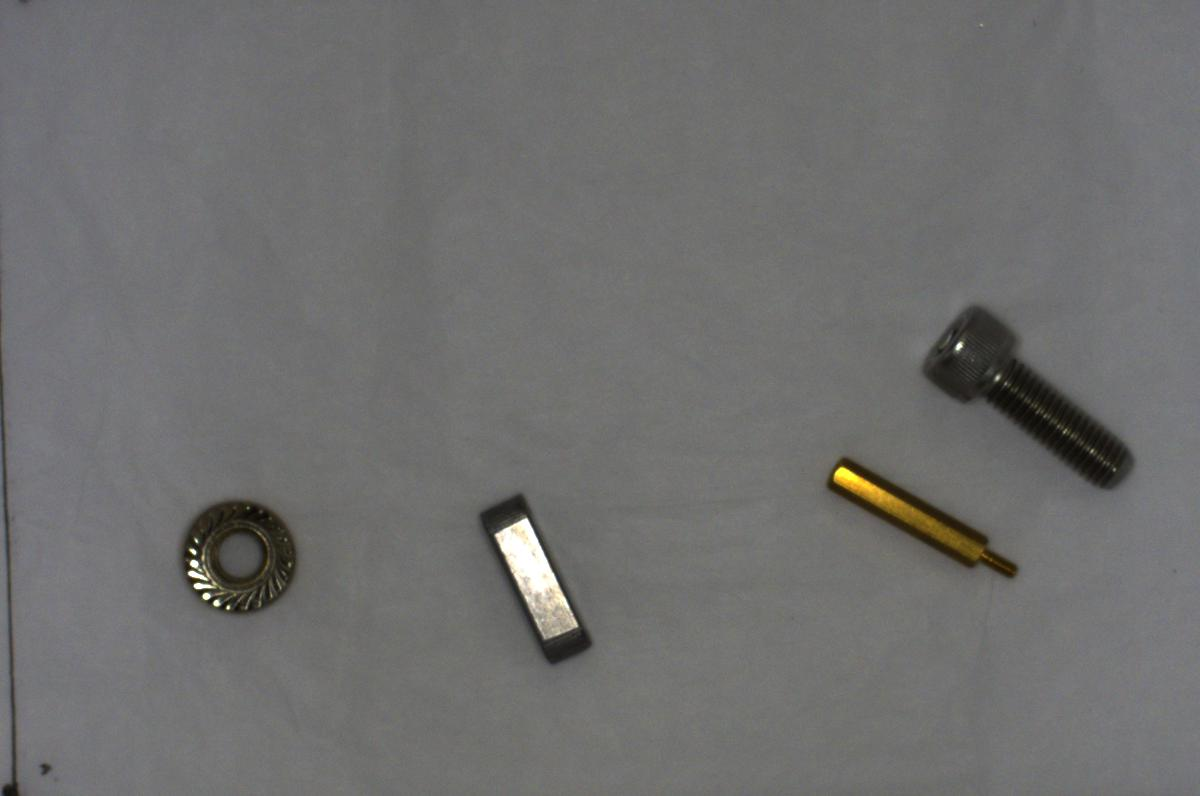Flange nut: (171, 494, 300, 619)
Hexagon pillar: (821, 447, 1027, 583)
Hexagon screw: (920, 302, 1140, 490)
Keybar: (480, 493, 593, 669)
